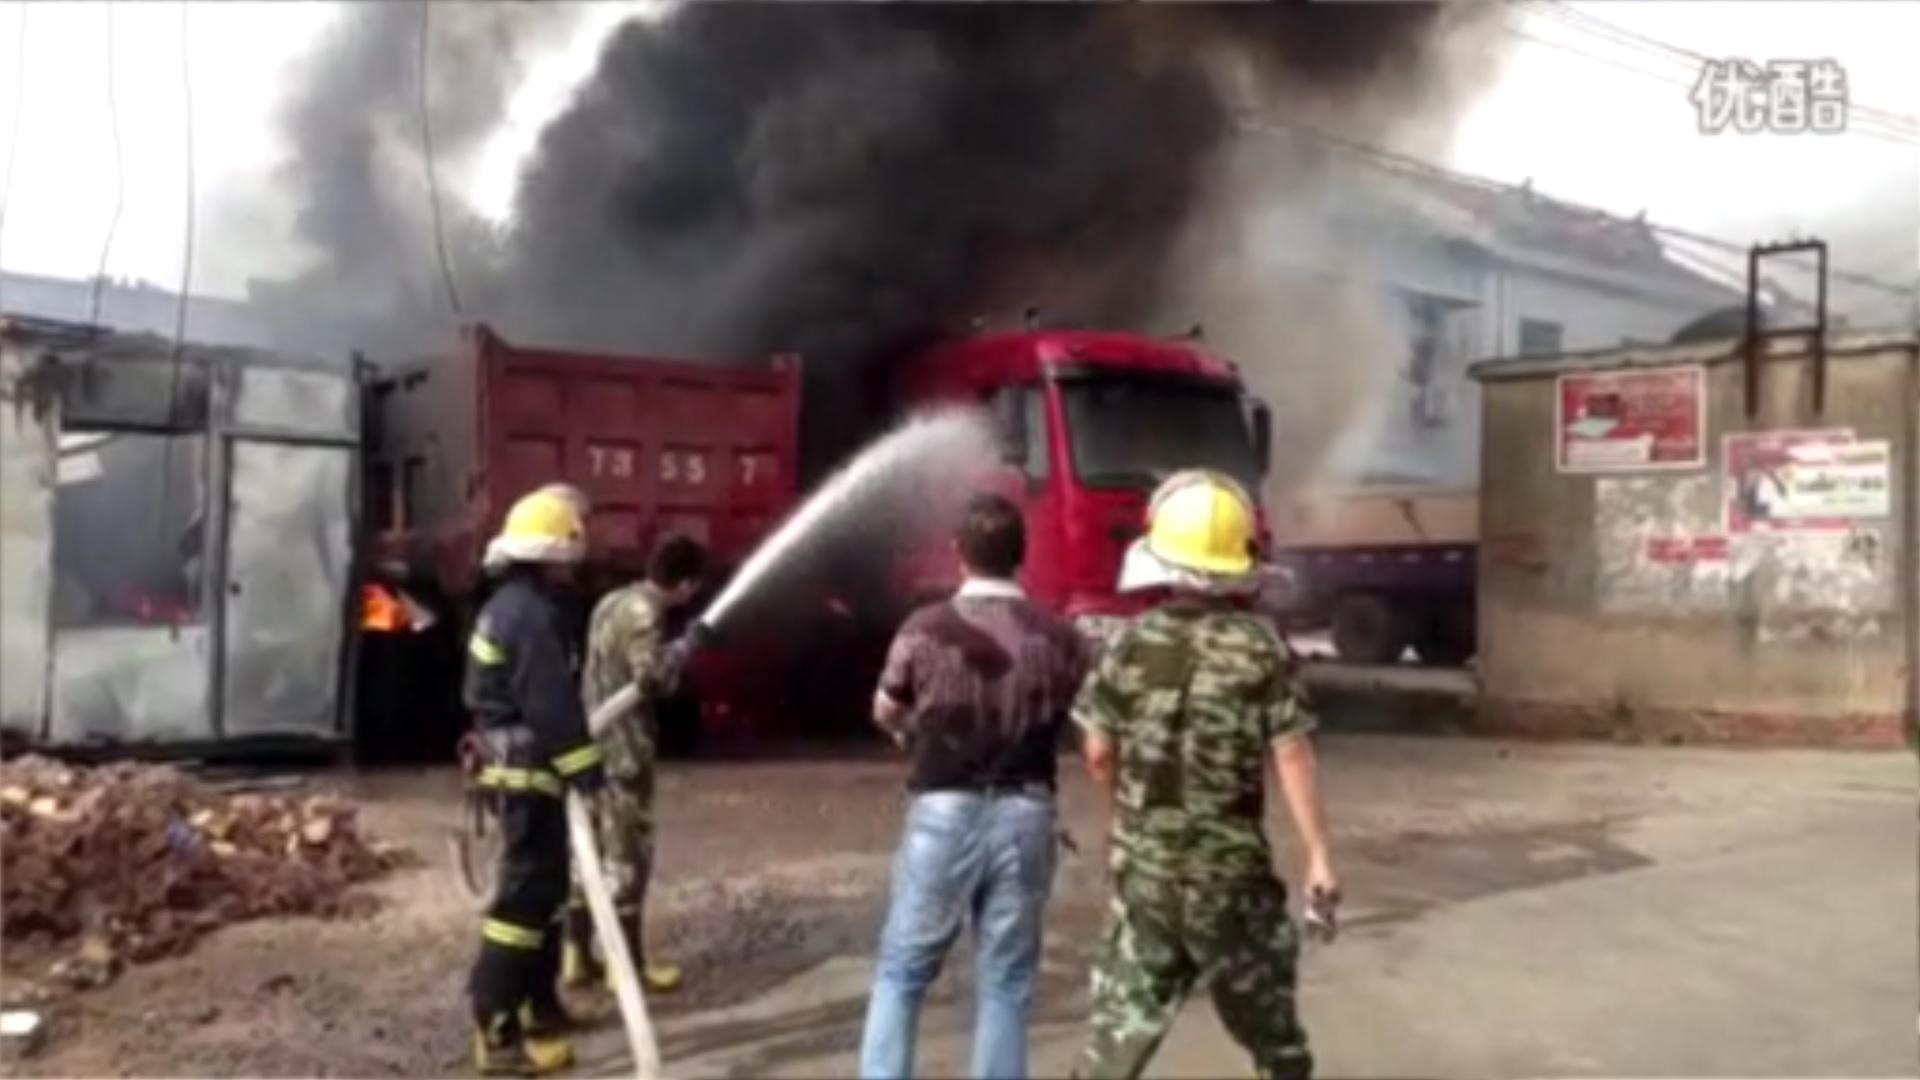fire: (352, 578, 419, 633)
